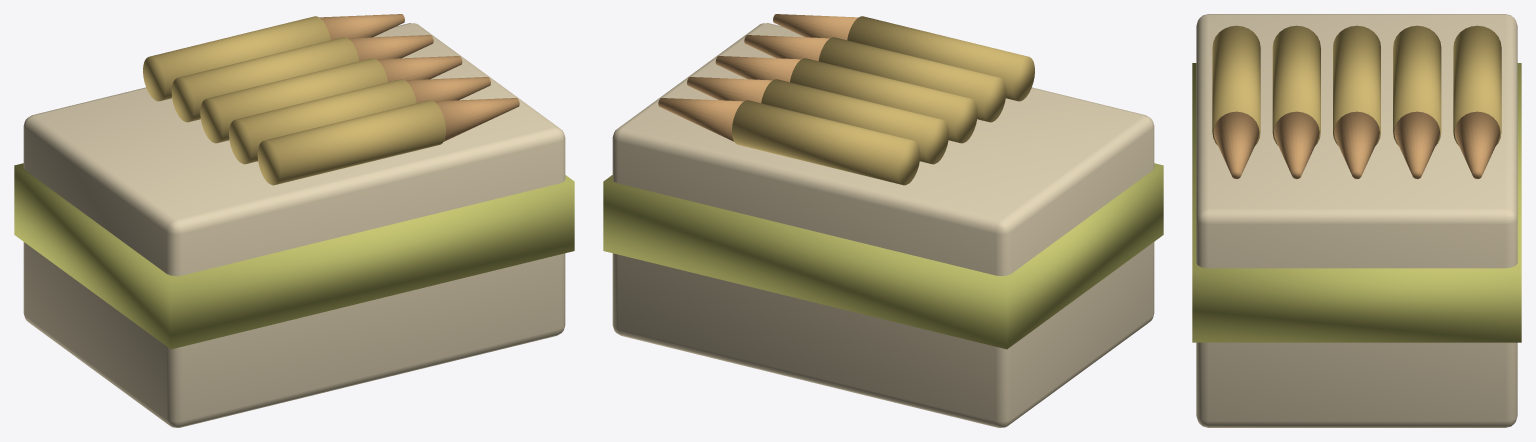
Rendered from SM_Ammo_762nato.glb.
3 views of the same model, side by side, from view 1: azimuth 30°, elevation 25°; view 2: azimuth 150°, elevation 25°; view 3: azimuth 270°, elevation 25° (orthographic). The views are drawn at different scales.
Parts seen in each view (by area): view 1: SM_Ammo_762nato; view 2: SM_Ammo_762nato; view 3: SM_Ammo_762nato.
Part boxes in pixels (<box>): SM_Ammo_762nato: <box>14,14,574,427</box>; SM_Ammo_762nato: <box>603,14,1163,427</box>; SM_Ammo_762nato: <box>1192,14,1521,427</box>.
Bounding box in the file's own units: 0.122 × 0.072 × 0.082.
